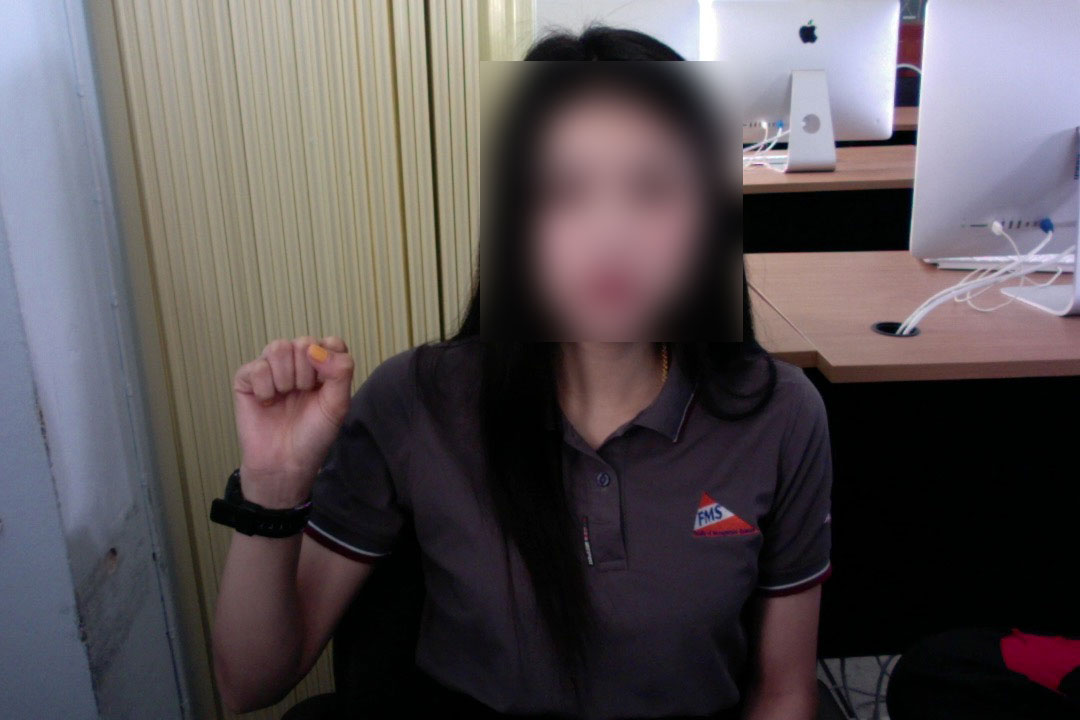sor: (224, 324, 356, 494)
